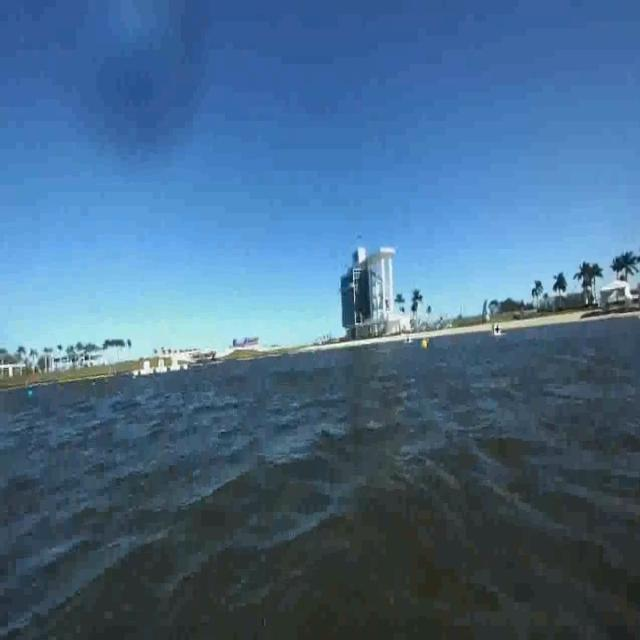yellow-buoy: (422, 338, 429, 352)
